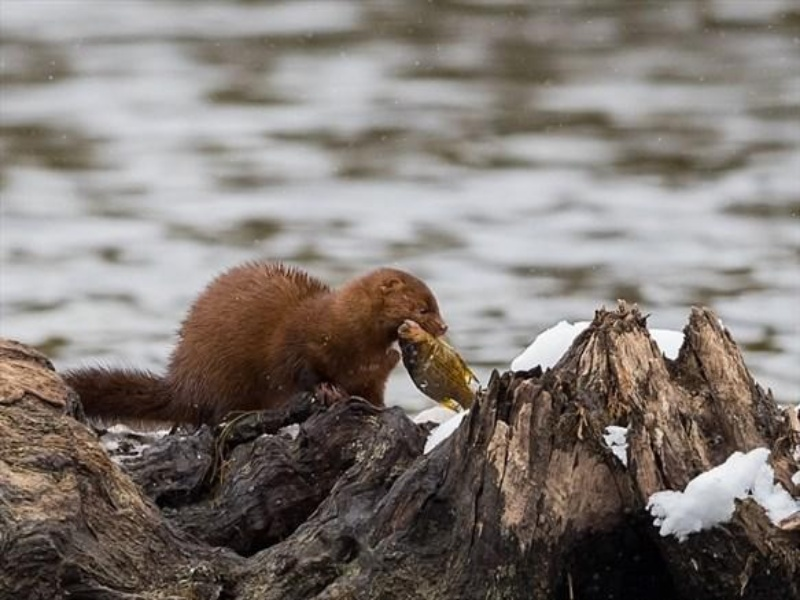minkish: (59, 259, 449, 434)
